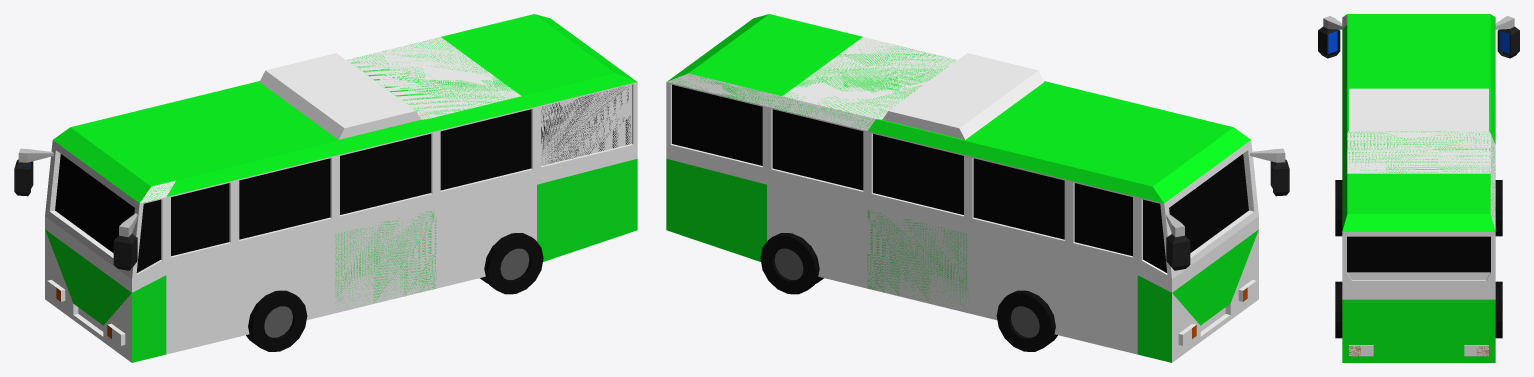
The model's file is EV_Car2.obj.
3 renders of one model, left to right at view 1: azimuth 30°, elevation 25°; view 2: azimuth 150°, elevation 25°; view 3: azimuth 270°, elevation 25°, orthographic. The views are drawn at different scales.
Parts seen in each view (by area): view 1: car, wheel3, wheel1, window; view 2: car, wheel4, wheel2, window; view 3: car, window, wheel4, wheel3, wheel1, wheel2.
Part boxes in pixels (x1,y1,x2,y2): car: [45, 14, 637, 362]; wheel3: [480, 233, 543, 294]; wheel1: [246, 290, 307, 351]; window: [14, 148, 137, 270]; car: [666, 14, 1258, 362]; wheel4: [760, 233, 823, 294]; wheel2: [996, 290, 1057, 351]; window: [1166, 148, 1289, 270]; car: [1342, 14, 1495, 362]; window: [1318, 16, 1519, 58]; wheel4: [1495, 281, 1502, 338]; wheel3: [1335, 281, 1342, 338]; wheel1: [1335, 180, 1342, 236]; wheel2: [1495, 180, 1502, 236].
Bounding box in the file's own units: 2.1 × 0.753 × 0.7805.
